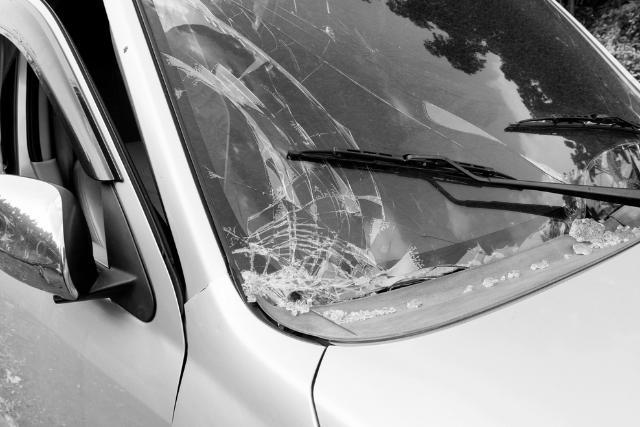Windshield: (155, 0, 640, 313)
